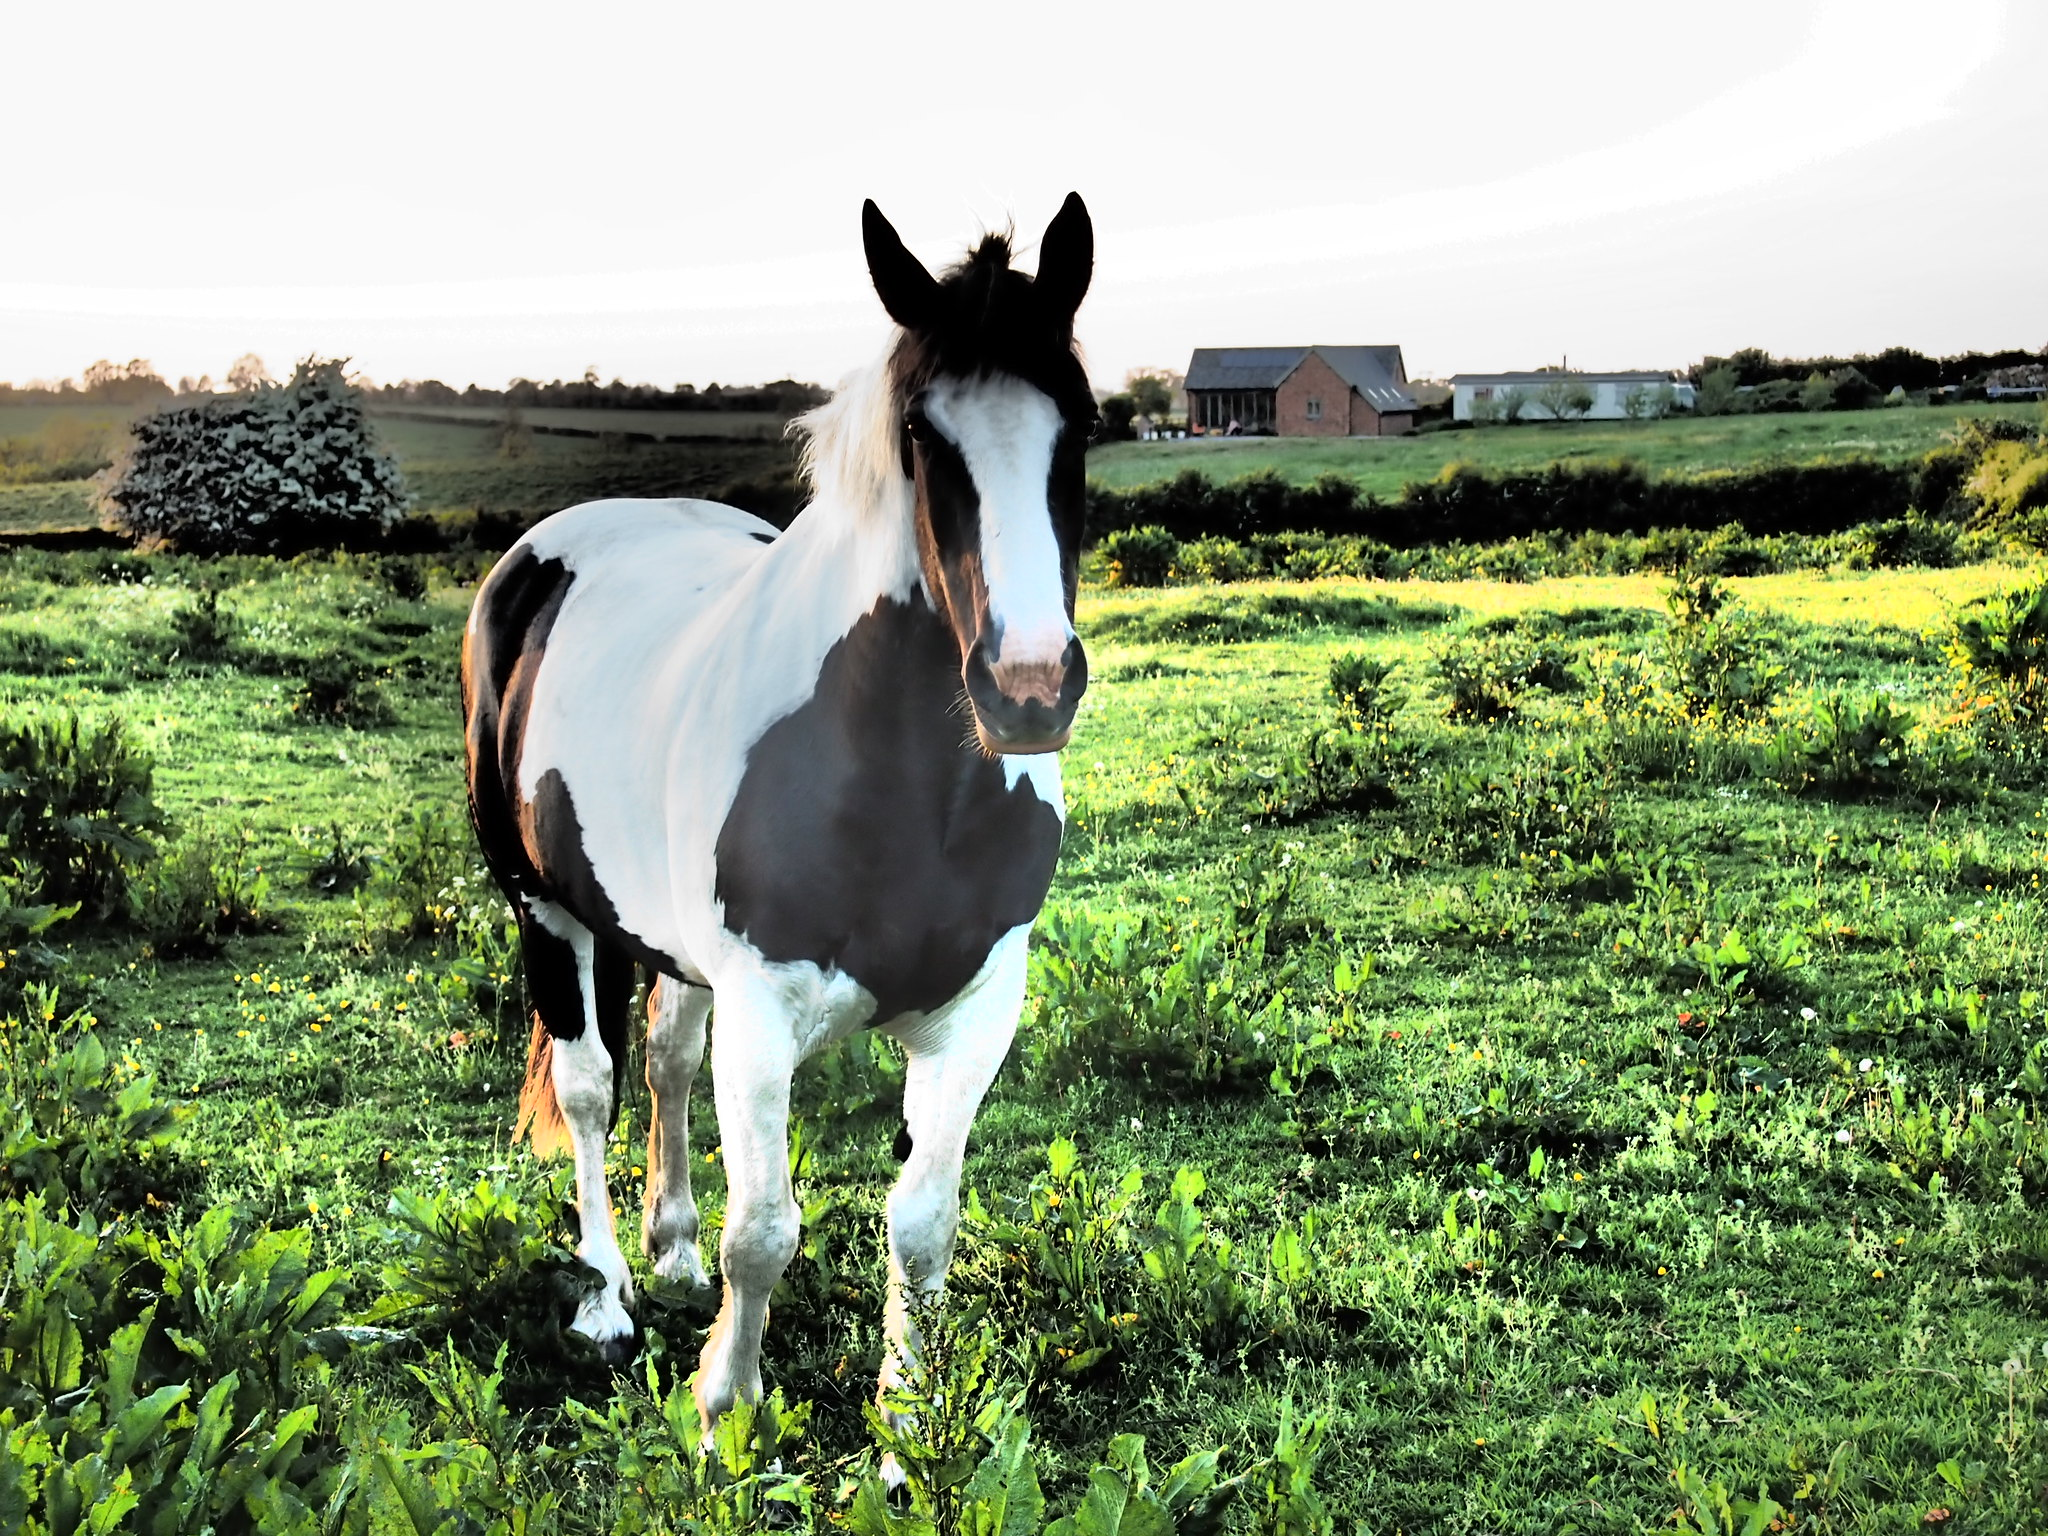horse: (464, 189, 1126, 1465)
